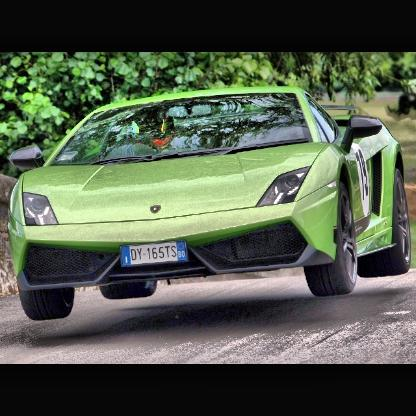Lamborghini Gallardo LP 570-4 Superleggera 2012: (7, 87, 413, 322)
